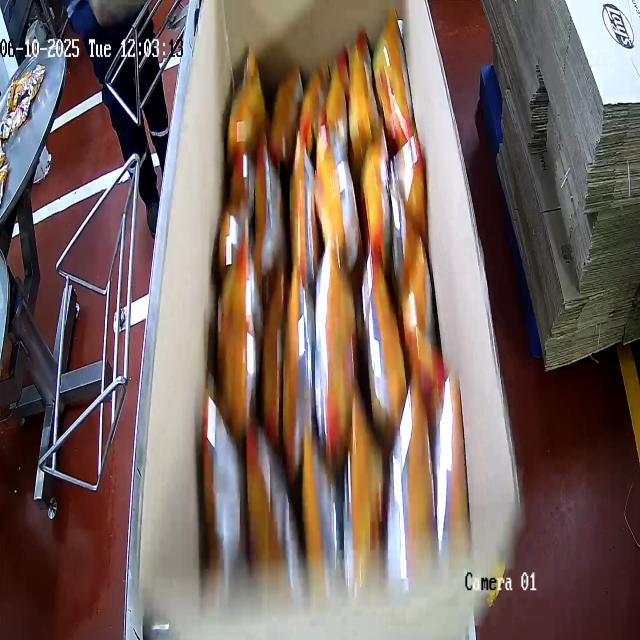FRENCH_CHEESE: (217, 43, 460, 566)
